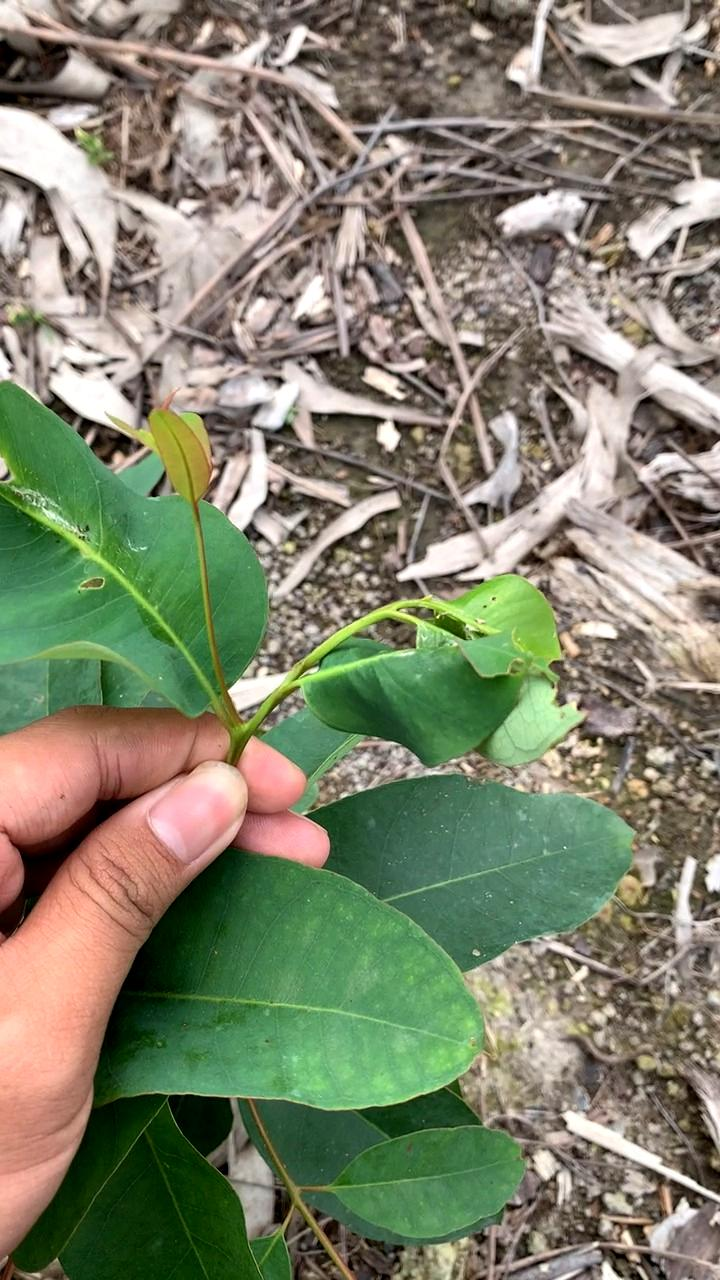Leaf Roller - Leaf: (301, 598, 585, 765)
